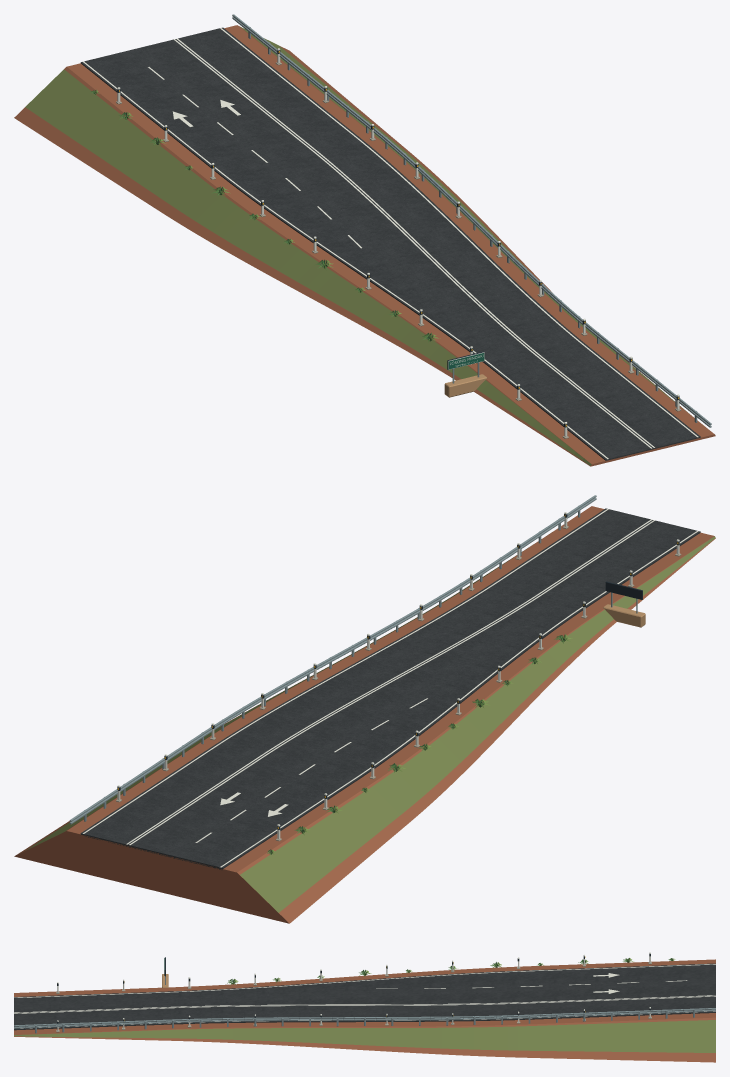
The picture shows the model from 3 angles, top to bottom: view 1: azimuth 30°, elevation 25°; view 2: azimuth 150°, elevation 25°; view 3: azimuth 270°, elevation 25°; orthographic projection. The views are drawn at different scales.
Visible parts, largest first — view 1: Running surface, Battered earth embankment, Seeded slope blankets, Paired steel crash rails, Double barrier lines, Continuous edge paint, Road delineators; view 2: Running surface, Battered earth embankment, Seeded slope blankets, Paired steel crash rails, Double barrier lines, Continuous edge paint, Road delineators, Pandan leaf clusters; view 3: Running surface, Seeded slope blankets, Battered earth embankment, Paired steel crash rails, Double barrier lines, Continuous edge paint, Guardbeam posts, Pandan leaf clusters, Road delineators.
Part boxes in pixels (<box>): Running surface: <box>80,27,700,460</box>; Battered earth embankment: <box>14,25,715,466</box>; Seeded slope blankets: <box>25,27,691,465</box>; Paired steel crash rails: <box>232,14,711,427</box>; Double barrier lines: <box>173,38,654,448</box>; Continuous edge paint: <box>83,28,698,459</box>; Road delineators: <box>117,48,679,436</box>; Running surface: <box>80,508,700,869</box>; Battered earth embankment: <box>14,506,715,923</box>; Seeded slope blankets: <box>26,536,715,912</box>; Paired steel crash rails: <box>69,495,596,824</box>; Double barrier lines: <box>126,519,654,845</box>; Continuous edge paint: <box>83,509,698,867</box>; Road delineators: <box>117,512,679,839</box>; Pandan leaf clusters: <box>267,634,572,854</box>; Running surface: <box>14,963,715,1030</box>; Seeded slope blankets: <box>14,1020,715,1052</box>; Battered earth embankment: <box>14,959,715,1062</box>; Paired steel crash rails: <box>14,1008,715,1028</box>; Double barrier lines: <box>14,995,715,1013</box>; Continuous edge paint: <box>14,964,715,1028</box>; Guardbeam posts: <box>35,1009,694,1033</box>; Pandan leaf clusters: <box>227,958,675,985</box>; Road delineators: <box>57,952,650,1030</box>.
Size of the model in its own units: 20.32 by 3.56 by 64.
Materials: 14 (1 with a texture image).
